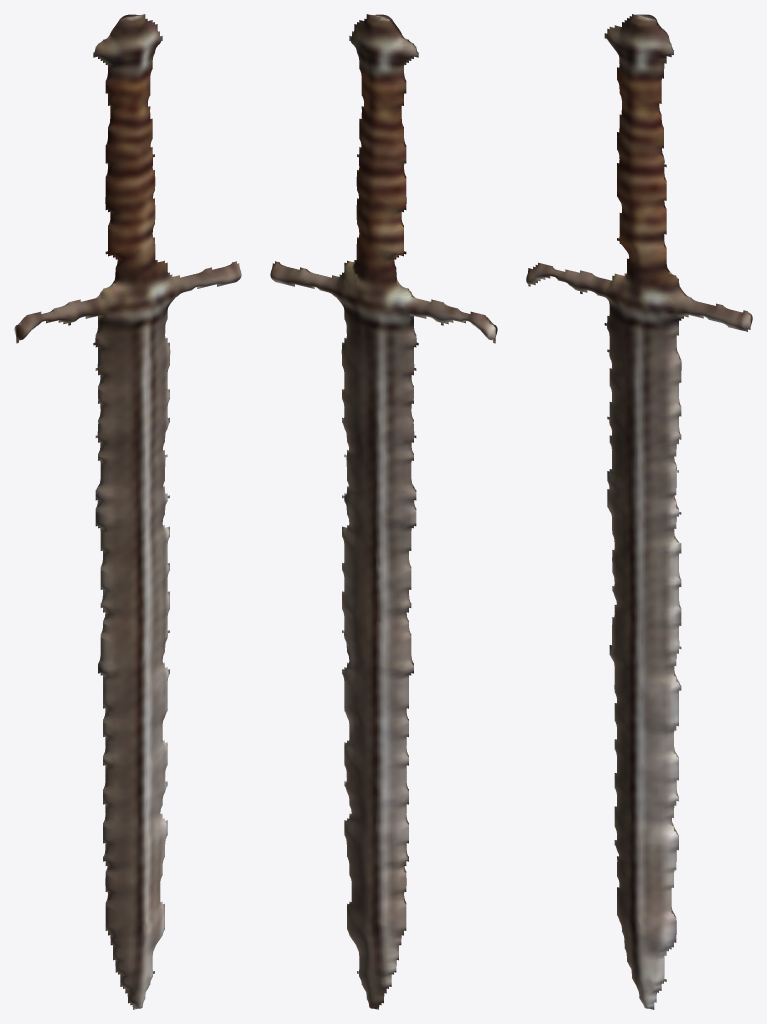
Rendered from kurzschwert.glb.
The picture shows the model from 3 angles, left to right: view 1: azimuth 30°, elevation 25°; view 2: azimuth 150°, elevation 25°; view 3: azimuth 330°, elevation 25°; orthographic projection.
Visible parts, largest first — view 1: kurzschwert; view 2: kurzschwert; view 3: kurzschwert.
Boxes of the visible parts, left/top/right/bottom form: kurzschwert: left=14, top=14, right=241, bottom=1009; kurzschwert: left=270, top=14, right=497, bottom=1009; kurzschwert: left=526, top=14, right=752, bottom=1009.
Bounding box in the file's own units: 0.1688 × 0.7182 × 0.025.
Materials: 1 (1 with a texture image).
